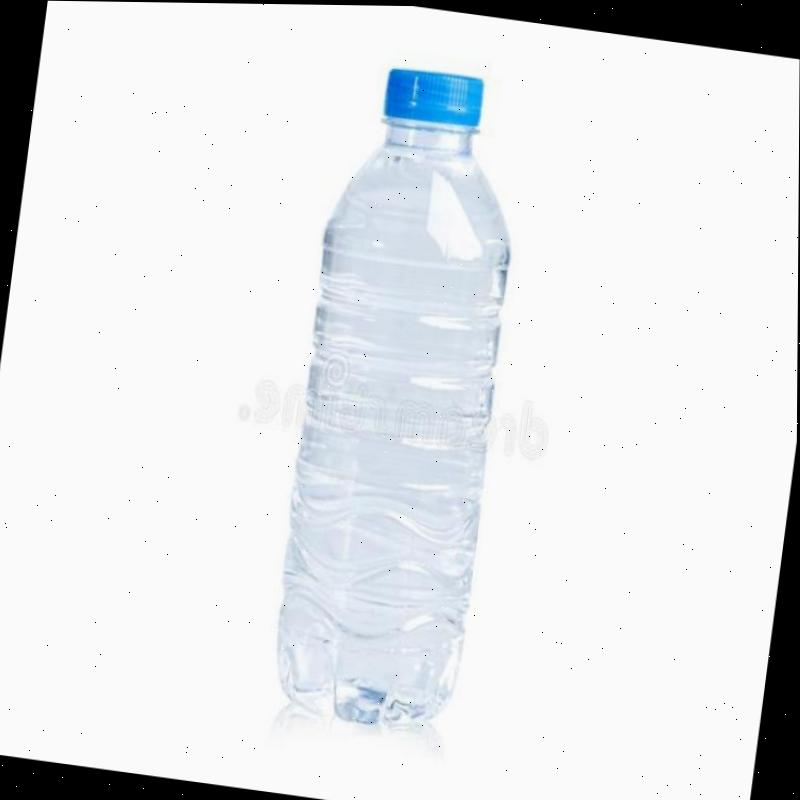botella: (257, 55, 538, 735)
